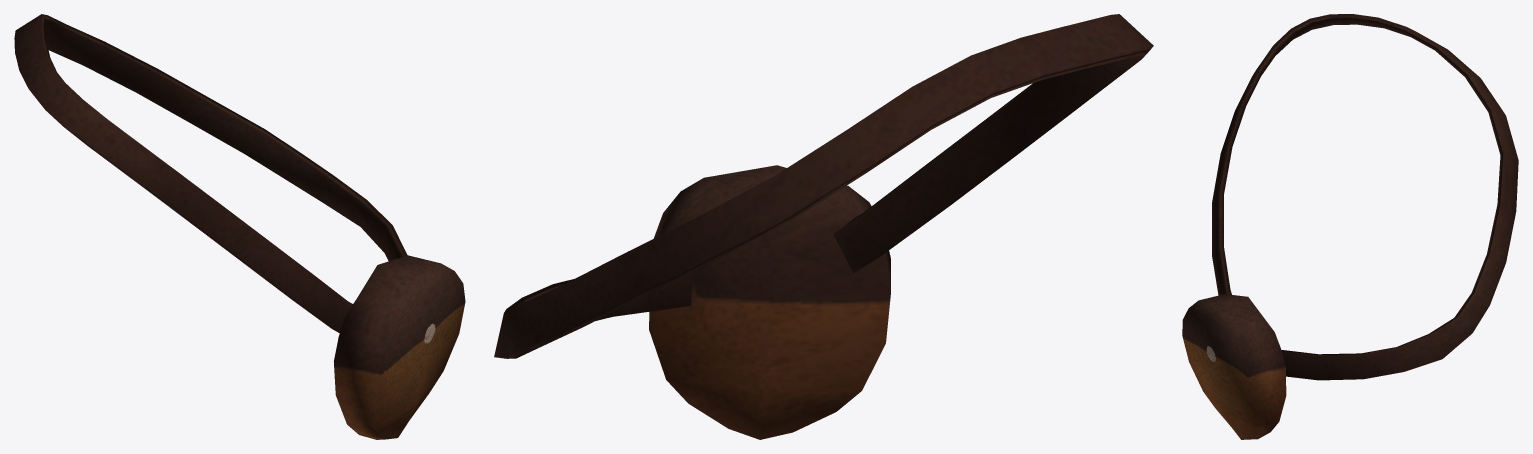
File: M_BagA_2.glb
3 views of the same model, side by side, from view 1: azimuth 30°, elevation 25°; view 2: azimuth 150°, elevation 25°; view 3: azimuth 270°, elevation 25° (orthographic). The views are drawn at different scales.
Visible parts, largest first — view 1: SM_BagA; view 2: SM_BagA; view 3: SM_BagA.
Part boxes in pixels (x1,y1,x2,y2): SM_BagA: (14,14,465,439); SM_BagA: (494,14,1153,439); SM_BagA: (1182,14,1518,439).
Size of the model in its own units: 0.4442 by 0.4484 by 0.427.
1 material, 1 textured.
